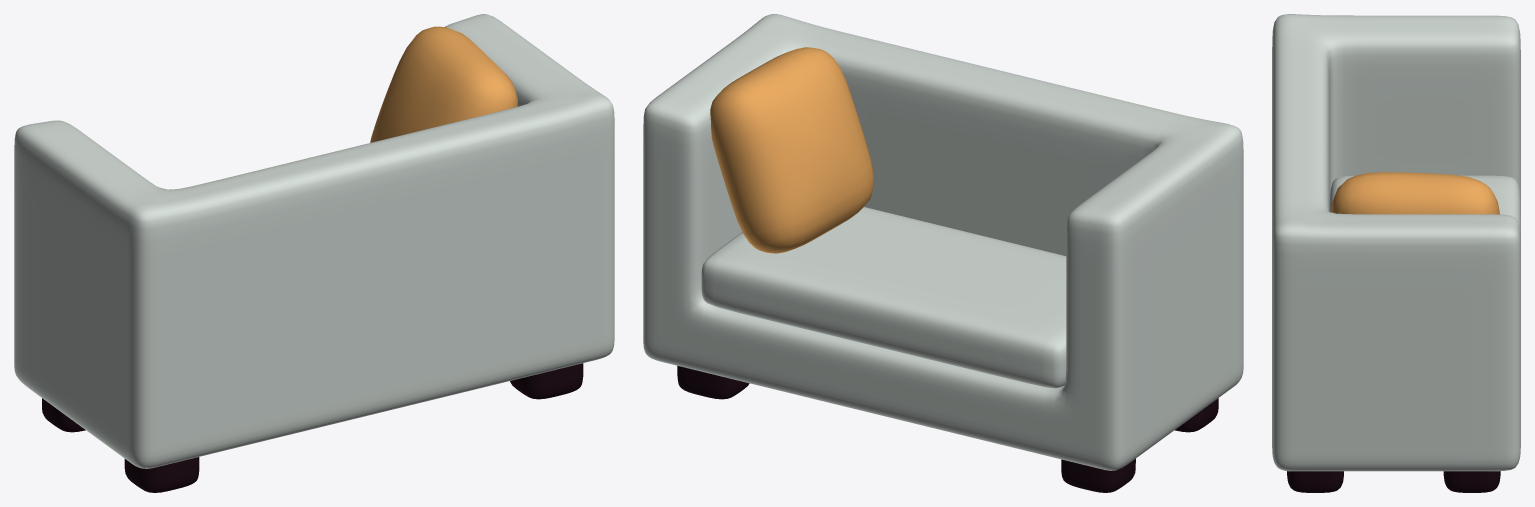
Rendered from sofa.fbx.
3 views of the same model, side by side, from view 1: azimuth 30°, elevation 25°; view 2: azimuth 150°, elevation 25°; view 3: azimuth 270°, elevation 25° (orthographic). The views are drawn at different scales.
Visible parts, largest first — view 1: Sofa, Cube.001, Sofa.001; view 2: Sofa, Cube.001, Sofa.001; view 3: Sofa, Cube.001, Sofa.001.
Boxes of the visible parts, <box> form: Sofa: <box>14,14,614,468</box>; Cube.001: <box>370,26,517,142</box>; Sofa.001: <box>42,363,583,492</box>; Sofa: <box>643,14,1243,470</box>; Cube.001: <box>710,47,873,253</box>; Sofa.001: <box>677,366,1218,492</box>; Sofa: <box>1272,14,1520,471</box>; Cube.001: <box>1331,172,1499,214</box>; Sofa.001: <box>1287,471,1500,492</box>.
Bounding box in the file's own units: 190 × 117 × 90.
